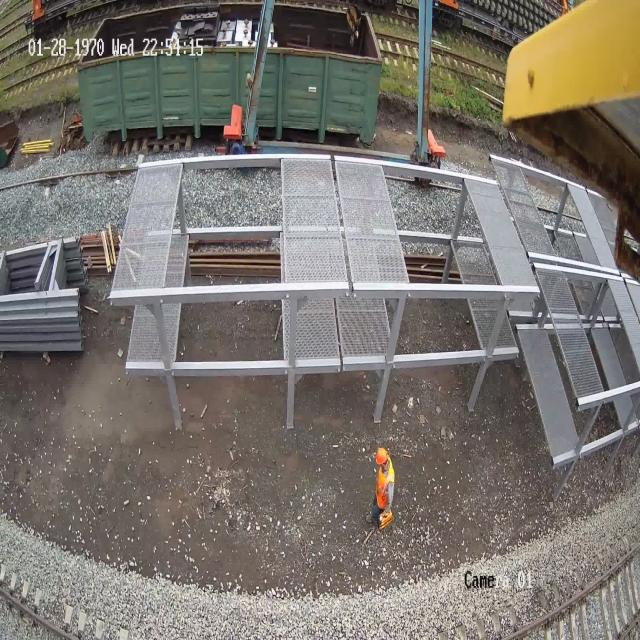Helmet: (375, 447, 388, 465)
Person: (371, 446, 395, 530)
